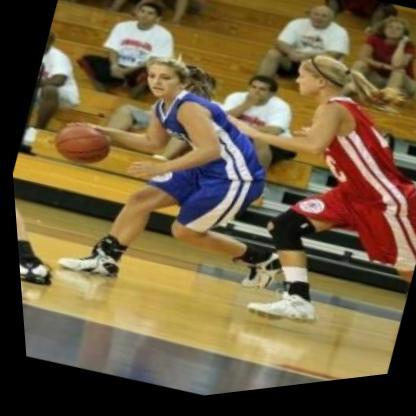basketball: (41, 110, 117, 182)
